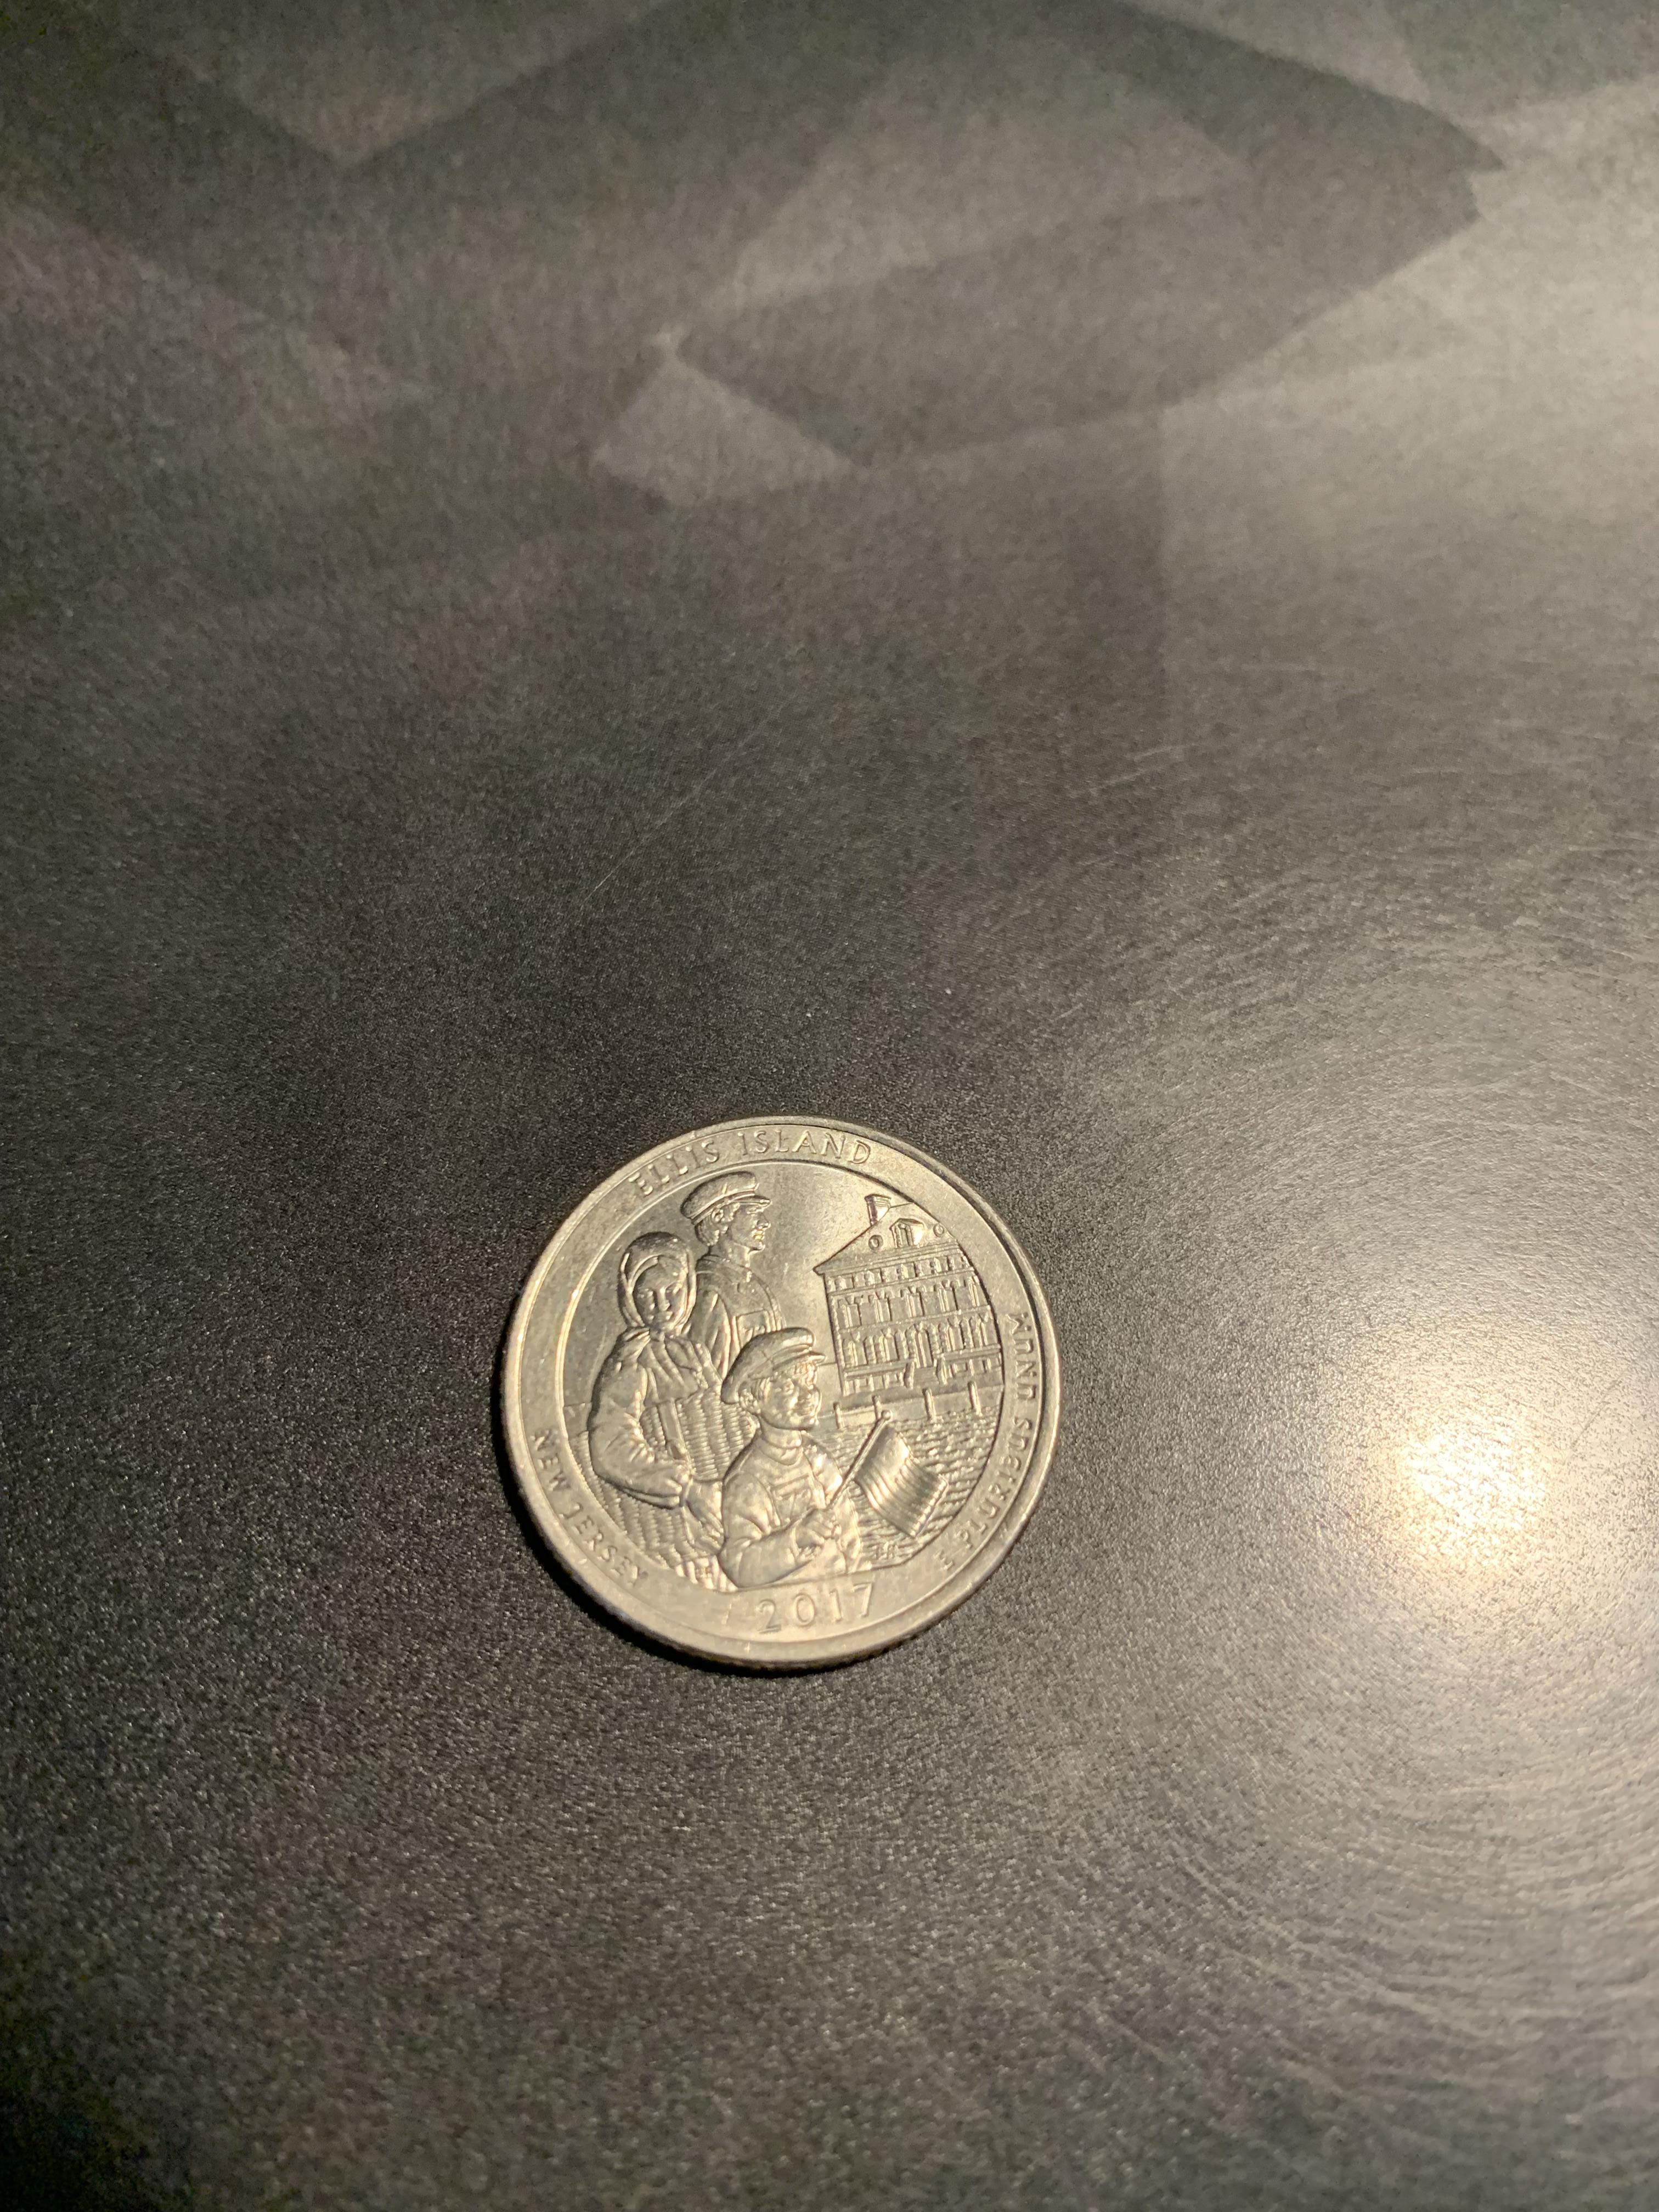Quarter: (465, 1085, 1096, 1695)
